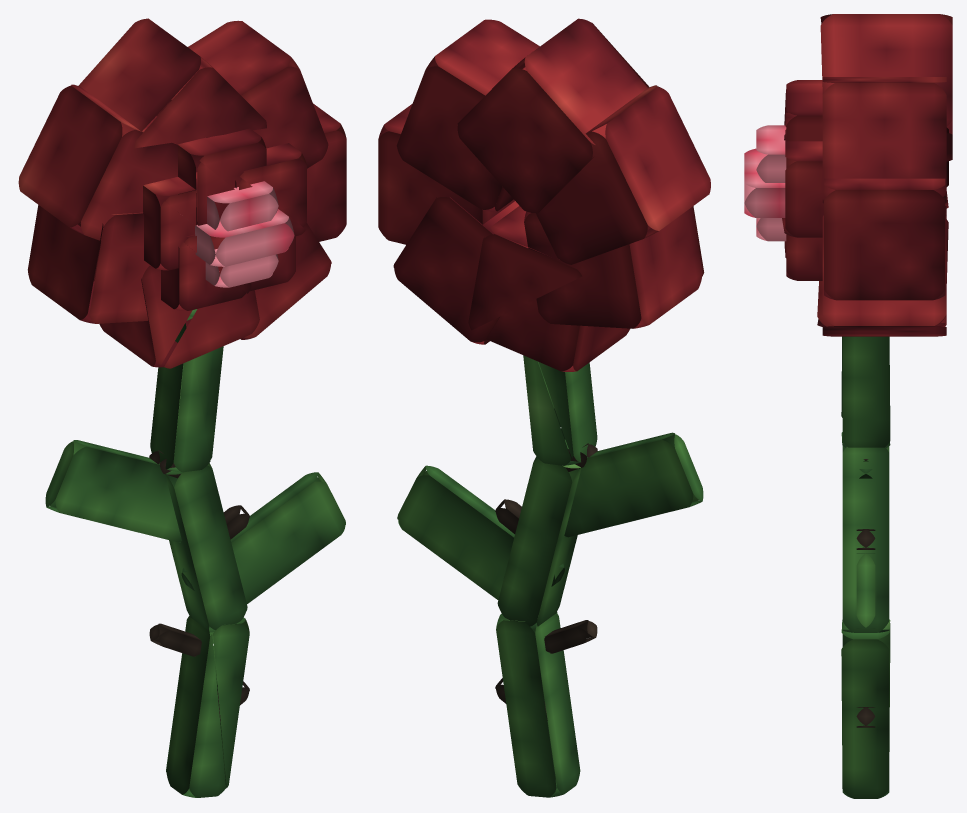
File: thornborn_rose.obj
3 renders of one model, left to right at view 1: azimuth 30°, elevation 25°; view 2: azimuth 150°, elevation 25°; view 3: azimuth 270°, elevation 25°, orthographic. The views are drawn at different scales.
Parts seen in each view (by area): view 1: lit, fire; view 2: lit; view 3: lit, fire.
Boxes of the visible parts, box(x1,y1,x2,y2) form: lit: box(18, 18, 346, 797); fire: box(195, 181, 294, 287); lit: box(378, 18, 710, 797); lit: box(782, 14, 952, 798); fire: box(744, 125, 786, 241).
Bounding box in the file's own units: 0.4732 × 1.13 × 0.2784.
